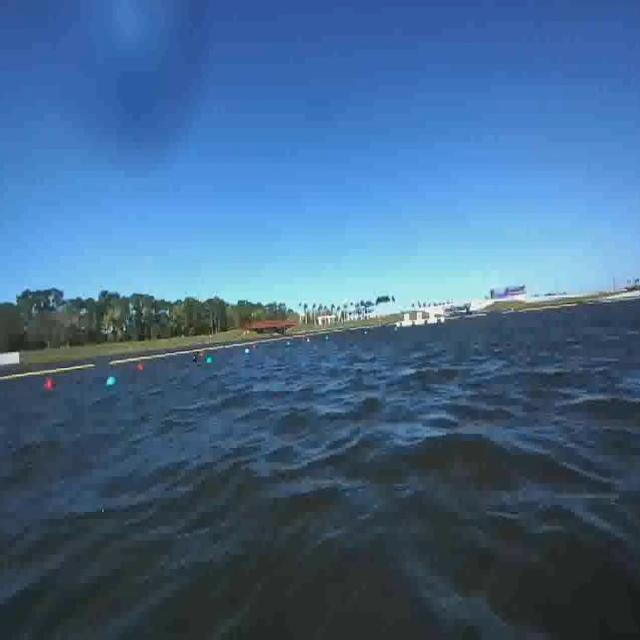green-buoy: (107, 374, 117, 389)
red-buoy: (42, 375, 58, 389)
